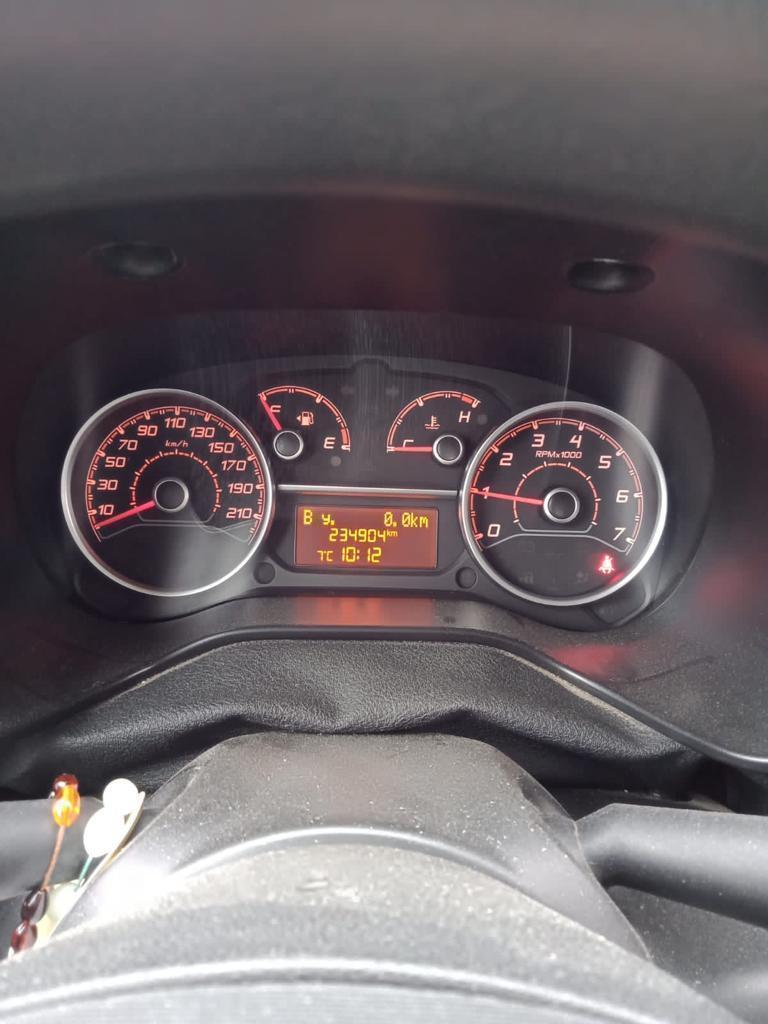,: (392, 520, 398, 527), (330, 518, 335, 525)
0: (383, 510, 393, 527), (345, 546, 355, 562), (401, 511, 410, 527), (367, 528, 376, 542)
1: (366, 546, 370, 563), (341, 546, 344, 563)
2: (371, 546, 382, 562), (329, 527, 337, 541)
3: (339, 526, 347, 542)
4: (348, 527, 357, 542), (377, 528, 385, 544)
7: (316, 549, 323, 561)
9: (358, 527, 366, 542)
X: (302, 508, 313, 525), (410, 511, 418, 527), (321, 512, 330, 526), (419, 515, 428, 527), (326, 550, 333, 561), (390, 530, 398, 536), (356, 548, 360, 560), (386, 528, 390, 536)
odometer: (292, 501, 440, 571)
